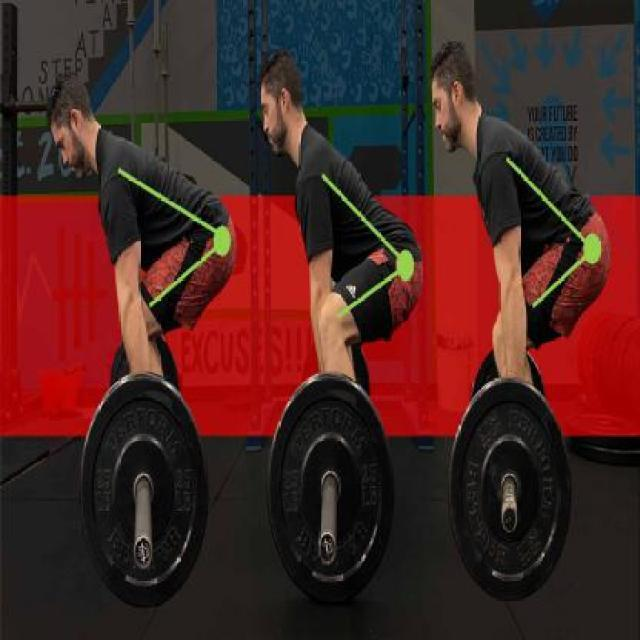barbell: (72, 368, 219, 616), (262, 366, 400, 610), (444, 369, 581, 611)
